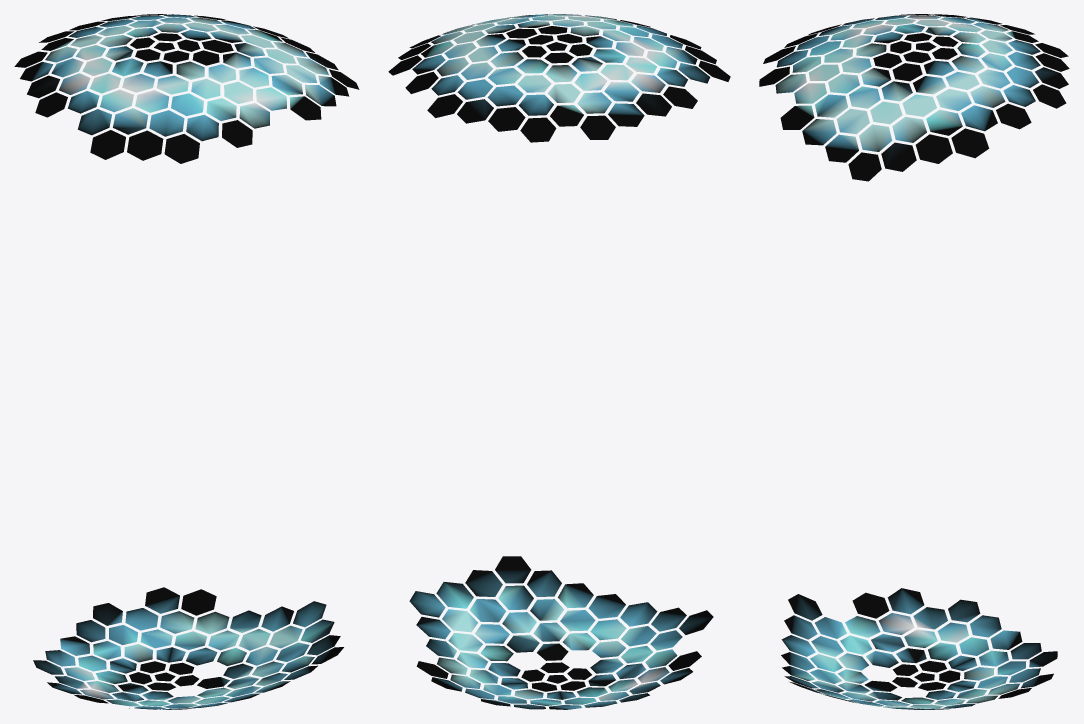
File: uv_hot_selena.fbx
3 views of the same model, side by side, from view 1: azimuth 30°, elevation 25°; view 2: azimuth 150°, elevation 25°; view 3: azimuth 270°, elevation 25° (orthographic).
Visible parts, largest first — view 1: uv_hot_selena; view 2: uv_hot_selena; view 3: uv_hot_selena.
Boxes of the visible parts, <box> form: uv_hot_selena: <box>14,14,359,709</box>; uv_hot_selena: <box>388,14,730,709</box>; uv_hot_selena: <box>759,14,1069,709</box>.
Size of the model in its own units: 97.75 by 199 by 88.93.
